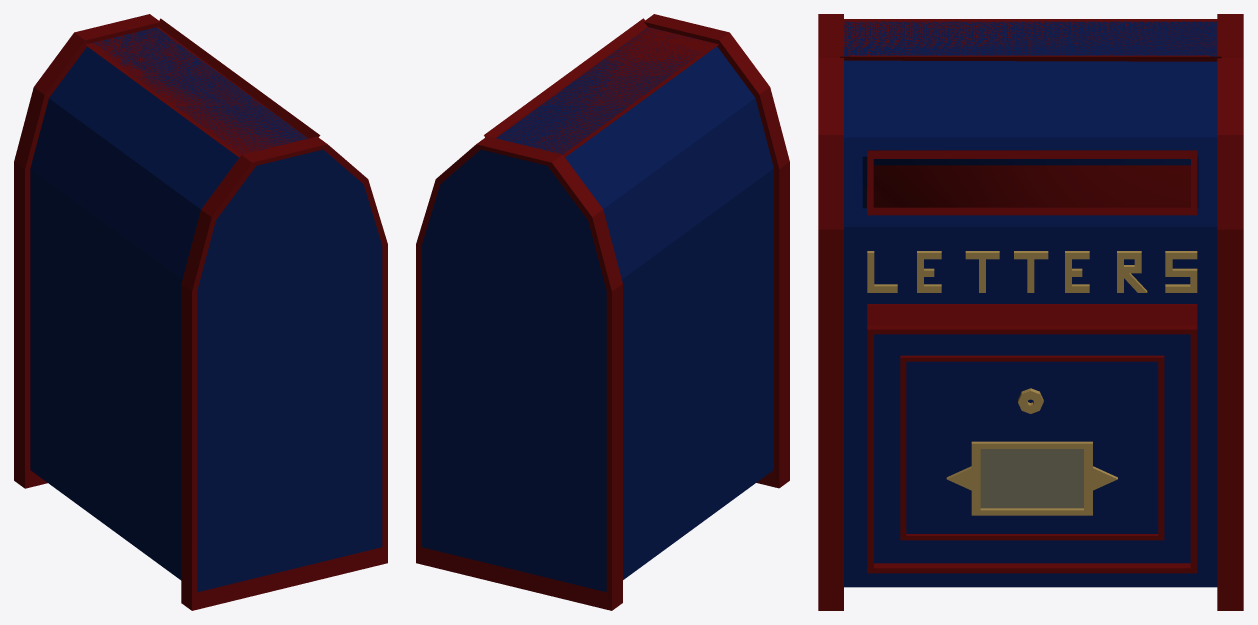
The model's file is mailbox.fbx.
3 renders of one model, left to right at view 1: azimuth 30°, elevation 25°; view 2: azimuth 150°, elevation 25°; view 3: azimuth 270°, elevation 25°, orthographic. The views are drawn at different scales.
Visible parts, largest first — view 1: mailbox; view 2: mailbox; view 3: mailbox.
Boxes of the visible parts, <box> form: mailbox: <box>14,14,387,610</box>; mailbox: <box>416,14,789,610</box>; mailbox: <box>818,14,1243,610</box>.
Bounding box in the file's own units: 267 × 560 × 414.
